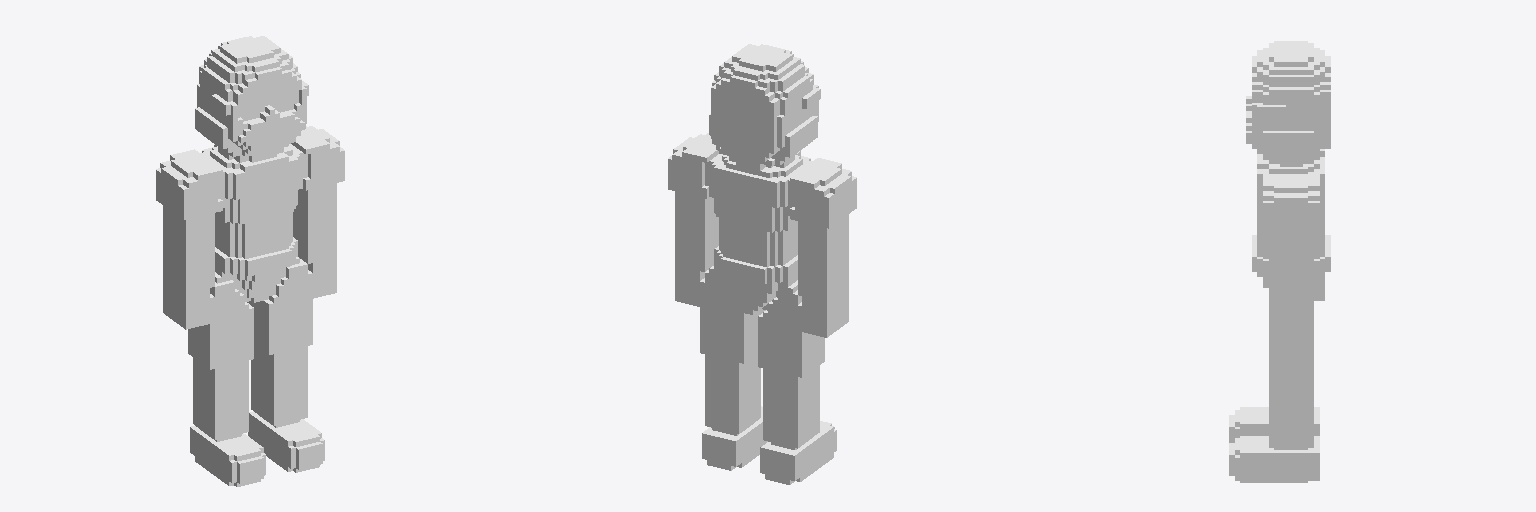
File: futura_soldier_LVL3_1.0.obj
The picture shows the model from 3 angles: view 1: azimuth 30°, elevation 25°; view 2: azimuth 150°, elevation 25°; view 3: azimuth 270°, elevation 25°; orthographic projection.
Visible parts, largest first — view 1: object 1; view 2: object 1; view 3: object 1.
Part boxes in pixels (bbox=[...]): object 1: bbox=[156, 36, 344, 486]; object 1: bbox=[668, 44, 856, 484]; object 1: bbox=[1229, 41, 1330, 482].
Bounding box in the file's own units: 3.3 × 8 × 1.8.